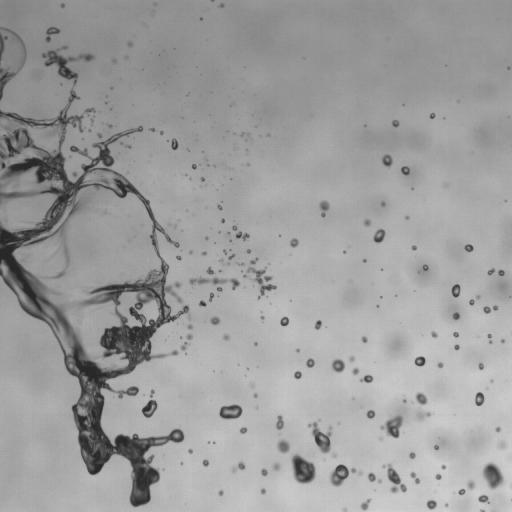droplet: (307, 418, 332, 453), (290, 453, 316, 484), (329, 464, 363, 486), (481, 462, 507, 489), (380, 415, 403, 438), (218, 404, 242, 419), (45, 26, 60, 42), (331, 358, 345, 373), (276, 438, 290, 453), (373, 228, 385, 243), (230, 461, 245, 473), (319, 200, 329, 217), (381, 154, 393, 168), (367, 472, 382, 483), (359, 498, 371, 511), (474, 392, 485, 406), (275, 414, 284, 430), (414, 356, 427, 367), (239, 131, 252, 141), (359, 374, 373, 383), (496, 439, 507, 450), (48, 39, 59, 50), (26, 50, 37, 61), (107, 143, 118, 154), (62, 162, 73, 173), (7, 197, 18, 208), (33, 211, 44, 222), (5, 221, 16, 232), (365, 225, 376, 236), (210, 246, 221, 257), (222, 267, 233, 278), (459, 288, 470, 299), (188, 302, 199, 313), (204, 303, 215, 314), (451, 319, 462, 330), (154, 325, 165, 336), (149, 333, 160, 344), (136, 360, 147, 371), (375, 413, 386, 424), (98, 417, 109, 428), (230, 417, 241, 428), (137, 428, 148, 439), (279, 428, 290, 439), (270, 431, 281, 442), (287, 445, 298, 456), (434, 451, 445, 462), (109, 452, 120, 463), (120, 458, 131, 469), (407, 459, 418, 470), (76, 461, 87, 472), (283, 462, 294, 473), (497, 463, 508, 474), (313, 467, 324, 478), (376, 468, 387, 479), (398, 471, 409, 482), (259, 476, 270, 487), (477, 477, 488, 488), (122, 478, 133, 489), (478, 482, 489, 493), (467, 488, 478, 499), (451, 284, 460, 297), (426, 499, 437, 509), (478, 494, 490, 503), (280, 316, 289, 327), (466, 479, 475, 490), (170, 138, 178, 150), (289, 238, 299, 247), (210, 316, 220, 325), (305, 358, 315, 367), (366, 409, 375, 419), (401, 166, 410, 175), (294, 370, 303, 379), (272, 462, 281, 471), (59, 49, 68, 58), (63, 77, 72, 86), (80, 117, 89, 126), (92, 123, 101, 132), (164, 130, 173, 139), (60, 146, 69, 155), (90, 148, 99, 157), (391, 161, 400, 170), (222, 221, 231, 230), (242, 239, 251, 248), (201, 241, 210, 250), (164, 276, 173, 285), (181, 281, 190, 290), (206, 282, 215, 291), (474, 300, 483, 309), (343, 362, 352, 371), (299, 364, 308, 373), (70, 427, 79, 436), (124, 428, 133, 437), (269, 443, 278, 452), (301, 452, 310, 461), (101, 462, 110, 471), (476, 462, 485, 471), (148, 482, 157, 491), (494, 484, 503, 493), (363, 218, 371, 227), (464, 244, 473, 252), (452, 311, 460, 320), (314, 320, 322, 329), (505, 266, 511, 277), (134, 505, 145, 511), (487, 267, 495, 275), (222, 333, 230, 341), (351, 367, 359, 375), (392, 119, 399, 127), (430, 331, 438, 338), (239, 427, 247, 434), (260, 468, 267, 476), (0, 126, 5, 137), (498, 269, 505, 276), (348, 355, 355, 362), (408, 452, 415, 459), (202, 459, 209, 466), (458, 488, 465, 495), (82, 47, 89, 54), (65, 61, 72, 68), (51, 62, 58, 69), (1, 105, 8, 112), (18, 110, 25, 117), (52, 110, 59, 117), (32, 113, 39, 120), (65, 122, 72, 129), (116, 125, 123, 132), (110, 127, 117, 134), (250, 131, 257, 138), (83, 158, 90, 165), (76, 168, 83, 175), (69, 175, 76, 182), (132, 181, 139, 188), (322, 194, 329, 201), (16, 196, 23, 203), (148, 201, 155, 208), (217, 210, 224, 217), (164, 226, 171, 233), (223, 241, 230, 248), (173, 247, 180, 254), (193, 249, 200, 256), (248, 252, 255, 259), (243, 260, 250, 267), (254, 263, 261, 270), (191, 271, 198, 278), (214, 271, 221, 278), (235, 274, 242, 281), (253, 282, 260, 289), (30, 316, 37, 323), (229, 334, 236, 341), (452, 337, 459, 344), (149, 347, 156, 354), (325, 361, 332, 368), (134, 363, 141, 370), (357, 370, 364, 377), (105, 377, 112, 384), (74, 385, 81, 392), (99, 387, 106, 394), (423, 390, 430, 397), (140, 399, 147, 406), (413, 401, 420, 408), (420, 403, 427, 410), (397, 425, 404, 432), (319, 426, 326, 433), (380, 428, 387, 435), (162, 429, 169, 436), (496, 431, 503, 438), (386, 434, 393, 441), (73, 442, 80, 449), (142, 451, 149, 458), (323, 451, 330, 458), (382, 457, 389, 464), (149, 461, 156, 468), (265, 464, 272, 471), (438, 468, 445, 475), (361, 473, 368, 480), (386, 480, 393, 487), (302, 481, 309, 488), (326, 481, 333, 488), (479, 501, 486, 508), (198, 300, 206, 306), (478, 362, 484, 370), (249, 380, 255, 388), (148, 127, 157, 132), (506, 335, 511, 344), (506, 442, 511, 451), (429, 112, 435, 119), (96, 132, 103, 138), (422, 264, 428, 271), (361, 336, 367, 343), (437, 361, 443, 368), (127, 41, 133, 47), (495, 426, 501, 432), (331, 452, 337, 458), (435, 473, 441, 479), (260, 488, 266, 494), (217, 203, 222, 210), (218, 489, 223, 496), (106, 123, 112, 128), (199, 176, 205, 181), (380, 201, 385, 207), (411, 245, 417, 250), (222, 249, 227, 255), (176, 255, 182, 260), (469, 299, 474, 305), (187, 324, 193, 329), (453, 332, 459, 337), (454, 344, 459, 350), (434, 444, 439, 450), (188, 448, 193, 454), (217, 3, 224, 7), (60, 3, 65, 8), (112, 58, 117, 63), (192, 164, 197, 169), (404, 215, 409, 220), (220, 218, 225, 223), (139, 223, 144, 228), (475, 294, 480, 299), (500, 338, 505, 343), (295, 348, 300, 353), (378, 436, 383, 441), (441, 464, 446, 469), (55, 23, 60, 28), (43, 24, 48, 29), (12, 27, 17, 32), (18, 32, 23, 37), (49, 33, 54, 38), (22, 38, 27, 43), (131, 38, 136, 43), (25, 48, 30, 53), (42, 48, 47, 53), (72, 52, 77, 57), (25, 55, 30, 60), (79, 57, 84, 62), (24, 58, 29, 63), (88, 59, 93, 64), (18, 69, 23, 74), (76, 76, 81, 81), (1, 90, 6, 95), (75, 91, 80, 96), (65, 92, 70, 97), (63, 98, 68, 103), (72, 98, 77, 103), (106, 102, 111, 107), (86, 103, 91, 108), (59, 104, 64, 109), (8, 108, 13, 113), (88, 111, 93, 116), (65, 112, 70, 117), (133, 123, 138, 128), (73, 126, 78, 131), (142, 126, 147, 131), (82, 128, 87, 133), (261, 130, 266, 135), (132, 131, 137, 136), (78, 132, 83, 137), (128, 132, 133, 137), (100, 136, 105, 141), (118, 136, 123, 141), (238, 136, 243, 141), (96, 137, 101, 142), (106, 143, 111, 148), (78, 145, 83, 150), (176, 145, 181, 150), (384, 149, 389, 154), (72, 151, 77, 156), (390, 154, 395, 159), (201, 161, 206, 166), (380, 163, 385, 168), (109, 164, 114, 169), (195, 165, 200, 170), (208, 165, 213, 170), (116, 168, 121, 173), (408, 168, 413, 173), (397, 170, 402, 175), (196, 179, 201, 184), (144, 194, 149, 199), (26, 196, 31, 201), (384, 199, 389, 204), (375, 201, 380, 206), (328, 202, 333, 207), (384, 203, 389, 208), (150, 207, 155, 212), (317, 208, 322, 213), (324, 209, 329, 214), (153, 214, 158, 219), (365, 214, 370, 219), (170, 218, 175, 223), (358, 220, 363, 225), (176, 223, 181, 228), (227, 226, 232, 231), (231, 230, 236, 235), (201, 231, 206, 236), (292, 233, 297, 238), (368, 235, 373, 240), (382, 235, 387, 240), (237, 237, 242, 242), (285, 240, 290, 245), (379, 240, 384, 245), (169, 243, 174, 248), (294, 245, 299, 250), (289, 246, 294, 251), (226, 250, 231, 255), (469, 250, 474, 255), (202, 254, 207, 259), (223, 255, 228, 260), (230, 257, 235, 262), (164, 258, 169, 263), (242, 265, 247, 270), (500, 265, 505, 270), (492, 270, 497, 275), (263, 271, 268, 276), (207, 273, 212, 278), (457, 280, 462, 285), (193, 281, 198, 286), (227, 281, 232, 286), (449, 281, 454, 286), (4, 285, 9, 290), (171, 286, 176, 291), (446, 287, 451, 292), (269, 288, 274, 293), (212, 289, 217, 294), (263, 289, 268, 294), (255, 290, 260, 295), (447, 291, 452, 296), (260, 294, 265, 299), (470, 294, 475, 299), (203, 297, 208, 302), (376, 298, 381, 303), (473, 299, 478, 304), (182, 300, 187, 305), (454, 307, 459, 312), (449, 309, 454, 314), (21, 310, 26, 315), (181, 312, 186, 317), (215, 312, 220, 317), (25, 313, 30, 318), (218, 315, 223, 320), (455, 318, 460, 323), (189, 319, 194, 324), (311, 319, 316, 324), (206, 320, 211, 325), (287, 321, 292, 326), (209, 323, 214, 328), (214, 323, 219, 328), (319, 324, 324, 329), (186, 328, 191, 333), (434, 328, 439, 333), (224, 329, 229, 334), (181, 336, 186, 341), (366, 336, 371, 341), (189, 338, 194, 343), (357, 338, 362, 343), (221, 339, 226, 344), (178, 340, 183, 345), (498, 342, 503, 347), (167, 347, 172, 352), (176, 347, 181, 352), (351, 351, 356, 356), (418, 351, 423, 356), (59, 353, 64, 358), (171, 354, 176, 359), (438, 357, 443, 362), (149, 358, 154, 363), (328, 358, 333, 363), (141, 359, 146, 364), (424, 359, 429, 364), (482, 361, 487, 366), (60, 363, 65, 368), (473, 363, 478, 368), (420, 364, 425, 369), (417, 365, 422, 370), (308, 366, 313, 371), (437, 367, 442, 372), (64, 370, 69, 375), (333, 370, 338, 375), (367, 370, 372, 375), (73, 376, 78, 381), (361, 380, 366, 385), (131, 381, 136, 386), (367, 381, 372, 386), (487, 382, 492, 387), (122, 385, 127, 390), (137, 385, 142, 390), (249, 389, 254, 394), (136, 391, 141, 396), (113, 392, 118, 397), (257, 392, 262, 397), (482, 392, 487, 397), (122, 393, 127, 398), (151, 395, 156, 400), (411, 396, 416, 401), (72, 398, 77, 403), (234, 400, 239, 405), (225, 401, 230, 406), (481, 401, 486, 406), (240, 404, 245, 409), (366, 405, 371, 410), (370, 405, 375, 410), (215, 407, 220, 412), (68, 410, 73, 415), (138, 411, 143, 416), (239, 413, 244, 418), (373, 413, 378, 418), (362, 414, 367, 419), (146, 416, 151, 421), (281, 416, 286, 421), (424, 416, 429, 421), (229, 417, 234, 422), (272, 417, 277, 422), (367, 417, 372, 422), (308, 418, 313, 423), (282, 423, 287, 428), (171, 424, 176, 429), (499, 424, 504, 429), (308, 426, 313, 431), (490, 426, 495, 431), (274, 428, 279, 433), (499, 428, 504, 433), (182, 430, 187, 435), (152, 432, 157, 437), (242, 432, 247, 437), (137, 433, 142, 438), (183, 434, 188, 439), (309, 435, 314, 440), (328, 435, 333, 440), (167, 439, 172, 444), (329, 440, 334, 445), (176, 441, 181, 446), (404, 451, 409, 456), (202, 454, 207, 459), (414, 454, 419, 459), (207, 458, 212, 463), (233, 460, 238, 465), (341, 460, 346, 465), (198, 462, 203, 467), (354, 464, 359, 469), (330, 465, 335, 470), (346, 465, 351, 470), (236, 468, 241, 473), (157, 469, 162, 474), (256, 470, 261, 475), (347, 471, 352, 476), (415, 473, 420, 478), (430, 474, 435, 479), (409, 477, 414, 482), (342, 478, 347, 483), (433, 478, 438, 483), (437, 478, 442, 483), (372, 479, 377, 484), (259, 483, 264, 488), (462, 484, 467, 489), (214, 487, 219, 492), (464, 488, 469, 493), (222, 490, 227, 495), (264, 490, 269, 495), (260, 493, 265, 498), (427, 495, 432, 500), (432, 496, 437, 501), (361, 497, 366, 502), (367, 502, 372, 507), (201, 251, 207, 255), (253, 392, 257, 398), (402, 397, 406, 403), (214, 0, 221, 3), (0, 208, 3, 215), (159, 130, 163, 135), (203, 157, 208, 161), (204, 236, 209, 240), (246, 249, 251, 253), (188, 250, 193, 254), (444, 502, 448, 507), (342, 507, 347, 511), (124, 55, 128, 59), (87, 128, 91, 132), (266, 133, 270, 137), (246, 162, 250, 166), (362, 258, 366, 262), (218, 269, 222, 273), (254, 341, 257, 346), (337, 508, 342, 511), (358, 508, 363, 511), (364, 508, 369, 511), (429, 508, 434, 511), (456, 99, 459, 103), (125, 170, 128, 174), (188, 176, 191, 180), (342, 250, 346, 253), (490, 379, 493, 383), (351, 396, 354, 400), (254, 406, 258, 409), (337, 421, 340, 425), (180, 461, 183, 465), (59, 0, 64, 2), (219, 0, 224, 2), (0, 21, 2, 26), (0, 276, 2, 281), (200, 17, 203, 20), (507, 66, 510, 69), (110, 86, 113, 89), (104, 101, 107, 104), (363, 124, 366, 127), (81, 137, 84, 140), (186, 148, 189, 151), (201, 150, 204, 153), (206, 163, 209, 166), (212, 164, 215, 167), (411, 187, 414, 190), (218, 230, 221, 233), (278, 234, 281, 237), (380, 268, 383, 271), (417, 270, 420, 273), (376, 304, 379, 307), (246, 367, 249, 370), (210, 1, 213, 4), (223, 3, 226, 6), (57, 4, 60, 7), (63, 5, 66, 8), (220, 7, 223, 10), (200, 14, 203, 17), (196, 16, 199, 19), (202, 17, 205, 20), (6, 25, 9, 28), (24, 44, 27, 47), (503, 66, 506, 69), (184, 91, 187, 94), (104, 98, 107, 101), (101, 101, 104, 104), (94, 107, 97, 110), (94, 111, 97, 114), (83, 113, 86, 116), (426, 114, 429, 117), (393, 116, 396, 119), (93, 117, 96, 120), (432, 117, 435, 120), (107, 121, 110, 124), (398, 121, 401, 124), (149, 124, 152, 127), (391, 125, 394, 128), (396, 125, 399, 128), (90, 126, 93, 129), (154, 126, 157, 129), (148, 129, 151, 132), (243, 129, 246, 132), (156, 131, 159, 134), (238, 131, 241, 134), (162, 132, 165, 135), (159, 134, 162, 137), (168, 140, 171, 143), (130, 144, 133, 147), (188, 146, 191, 149), (125, 147, 128, 150), (192, 160, 195, 163), (207, 160, 210, 163), (243, 160, 246, 163), (195, 162, 198, 165), (402, 163, 405, 166), (188, 164, 191, 167), (191, 168, 194, 171), (401, 173, 404, 176), (229, 174, 232, 177), (185, 175, 188, 178), (201, 181, 204, 184), (411, 184, 414, 187), (407, 186, 410, 189), (411, 189, 414, 192), (504, 196, 507, 199), (219, 202, 222, 205), (214, 204, 217, 207), (215, 207, 218, 210), (406, 212, 409, 215), (320, 216, 323, 219), (218, 217, 221, 220), (224, 218, 227, 221), (403, 218, 406, 221), (220, 222, 223, 225), (231, 222, 234, 225), (381, 226, 384, 229), (215, 228, 218, 231), (220, 231, 223, 234), (215, 232, 218, 235), (280, 232, 283, 235), (275, 234, 278, 237), (201, 236, 204, 239), (207, 238, 210, 241), (213, 238, 216, 241), (225, 238, 228, 241), (178, 241, 181, 244), (215, 241, 218, 244), (412, 242, 415, 245), (470, 242, 473, 245), (212, 243, 215, 246), (248, 246, 251, 249), (408, 246, 411, 249), (343, 247, 346, 250), (201, 248, 204, 251), (225, 248, 228, 251), (412, 249, 415, 252), (463, 249, 466, 252), (339, 250, 342, 253), (221, 252, 224, 255), (344, 252, 347, 255), (159, 253, 162, 256), (362, 255, 365, 258), (216, 256, 219, 259), (365, 257, 368, 260), (174, 258, 177, 261), (359, 258, 362, 261), (177, 259, 180, 262), (238, 260, 241, 263), (361, 261, 364, 264), (424, 261, 427, 264), (427, 264, 430, 267), (204, 266, 207, 269), (210, 266, 213, 269), (377, 266, 380, 269), (382, 266, 385, 269), (488, 266, 491, 269), (420, 267, 423, 270), (167, 268, 170, 271), (379, 270, 382, 273), (423, 270, 426, 273), (484, 271, 487, 274), (503, 272, 506, 275), (499, 275, 502, 278), (459, 285, 462, 288), (9, 289, 12, 292), (231, 289, 234, 292), (392, 291, 395, 294), (395, 291, 398, 294), (475, 291, 478, 294), (379, 292, 382, 295), (254, 295, 257, 298), (376, 295, 379, 298), (382, 295, 385, 298), (394, 296, 397, 299), (454, 296, 457, 299), (211, 297, 214, 300), (291, 298, 294, 301), (466, 298, 469, 301), (196, 300, 199, 303), (466, 302, 469, 305), (200, 305, 203, 308), (373, 305, 376, 308), (378, 305, 381, 308), (497, 306, 500, 309), (480, 308, 483, 311), (261, 312, 264, 315), (458, 312, 461, 315), (486, 312, 489, 315), (283, 313, 286, 316), (258, 318, 261, 321), (262, 318, 265, 321), (277, 319, 280, 322), (282, 325, 285, 328), (454, 328, 457, 331), (487, 330, 490, 333), (450, 331, 453, 334), (457, 331, 460, 334), (428, 333, 431, 336), (176, 335, 179, 338), (451, 335, 454, 338), (501, 335, 504, 338), (431, 336, 434, 339), (53, 337, 56, 340), (486, 337, 489, 340), (253, 338, 256, 341), (256, 340, 259, 343), (503, 341, 506, 344), (250, 342, 253, 345), (256, 343, 259, 346), (488, 343, 491, 346), (253, 345, 256, 348), (295, 345, 298, 348), (451, 345, 454, 348), (458, 346, 461, 349), (184, 348, 187, 351), (299, 349, 302, 352), (455, 349, 458, 352), (294, 351, 297, 354), (186, 352, 189, 355), (304, 358, 307, 361), (411, 359, 414, 362), (313, 363, 316, 366), (442, 363, 445, 366), (247, 364, 250, 367), (248, 367, 251, 370), (482, 367, 485, 370), (244, 369, 247, 372), (479, 369, 482, 372), (291, 372, 294, 375), (491, 376, 494, 379), (298, 377, 301, 380), (486, 379, 489, 382), (147, 391, 150, 394), (473, 392, 476, 395), (400, 396, 403, 399), (252, 397, 255, 400), (155, 400, 158, 403), (400, 401, 403, 404), (472, 401, 475, 404), (364, 409, 367, 412), (153, 410, 156, 413), (304, 423, 307, 426), (242, 424, 245, 427), (494, 424, 497, 427), (206, 437, 209, 440), (215, 440, 218, 443), (209, 441, 212, 444), (212, 443, 215, 446), (431, 443, 434, 446), (438, 445, 441, 448), (191, 447, 194, 450), (411, 449, 414, 452), (433, 449, 436, 452), (186, 451, 189, 454), (191, 451, 194, 454), (414, 451, 417, 454), (410, 458, 413, 461), (199, 459, 202, 462), (177, 460, 180, 463), (182, 462, 185, 465), (443, 462, 446, 465), (244, 465, 247, 468), (433, 472, 436, 475), (261, 475, 264, 478), (416, 483, 419, 486), (264, 487, 267, 490), (457, 487, 460, 490), (257, 489, 260, 492), (215, 492, 218, 495), (462, 493, 465, 496), (459, 494, 462, 497), (219, 495, 222, 498), (367, 495, 370, 498), (475, 498, 478, 501), (447, 504, 450, 507), (60, 82, 62, 85), (233, 132, 236, 134), (166, 139, 168, 142), (216, 188, 218, 191), (504, 200, 507, 202), (242, 286, 245, 288), (217, 294, 219, 297), (394, 294, 397, 296), (379, 296, 382, 298), (289, 299, 291, 302), (180, 336, 182, 339), (185, 352, 187, 355), (485, 387, 488, 389), (323, 458, 325, 461), (509, 67, 511, 70), (509, 292, 511, 295), (509, 297, 511, 300), (346, 509, 349, 511), (476, 509, 479, 511), (445, 64, 447, 66), (105, 95, 107, 97), (402, 104, 404, 106), (443, 117, 445, 119), (229, 249, 231, 251), (252, 285, 254, 287), (269, 302, 271, 304), (411, 401, 413, 403), (162, 468, 164, 470), (373, 489, 375, 491), (230, 178, 232, 179), (182, 229, 183, 231), (221, 201, 222, 202), (510, 296, 511, 297), (245, 375, 246, 376)
ligament: (188, 266, 240, 292), (381, 463, 406, 493), (141, 389, 158, 418), (232, 225, 249, 241), (217, 253, 235, 266), (180, 333, 193, 351), (126, 227, 138, 243), (409, 471, 420, 484), (483, 305, 498, 313), (120, 141, 132, 149), (225, 231, 231, 242), (260, 310, 265, 323), (208, 292, 214, 302), (234, 261, 245, 266), (487, 333, 492, 343), (167, 223, 176, 228), (207, 441, 215, 444), (225, 167, 232, 170), (508, 482, 511, 489), (181, 173, 187, 176), (204, 183, 208, 186), (479, 509, 485, 511), (176, 219, 180, 221), (490, 510, 497, 511), (210, 0, 214, 1), (510, 498, 511, 501)
